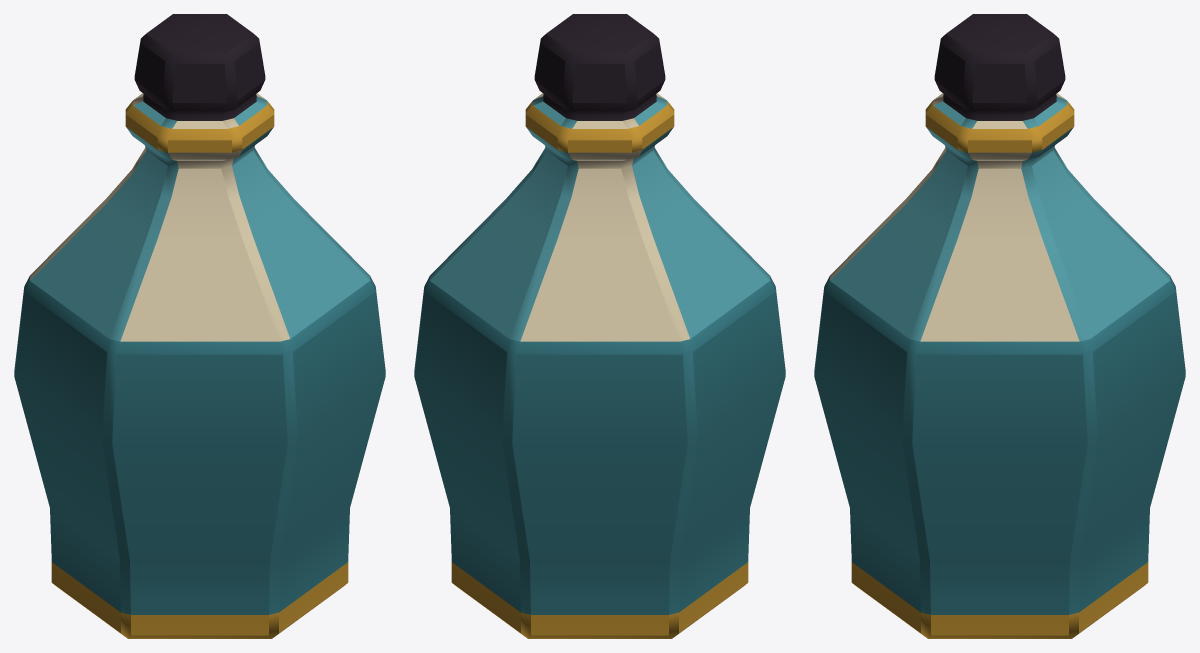
File: Bottle_21.glb
The picture shows the model from 3 angles, left to right: view 1: azimuth 30°, elevation 25°; view 2: azimuth 150°, elevation 25°; view 3: azimuth 270°, elevation 25°; orthographic projection.
Visible parts, largest first — view 1: Bottle_21; view 2: Bottle_21; view 3: Bottle_21.
Boxes of the visible parts, x1,y1,x2,y2 form: Bottle_21: (14, 14, 385, 638); Bottle_21: (414, 14, 785, 638); Bottle_21: (814, 14, 1185, 638).
Bounding box in the file's own units: 1.22 × 2.3 × 1.38.
